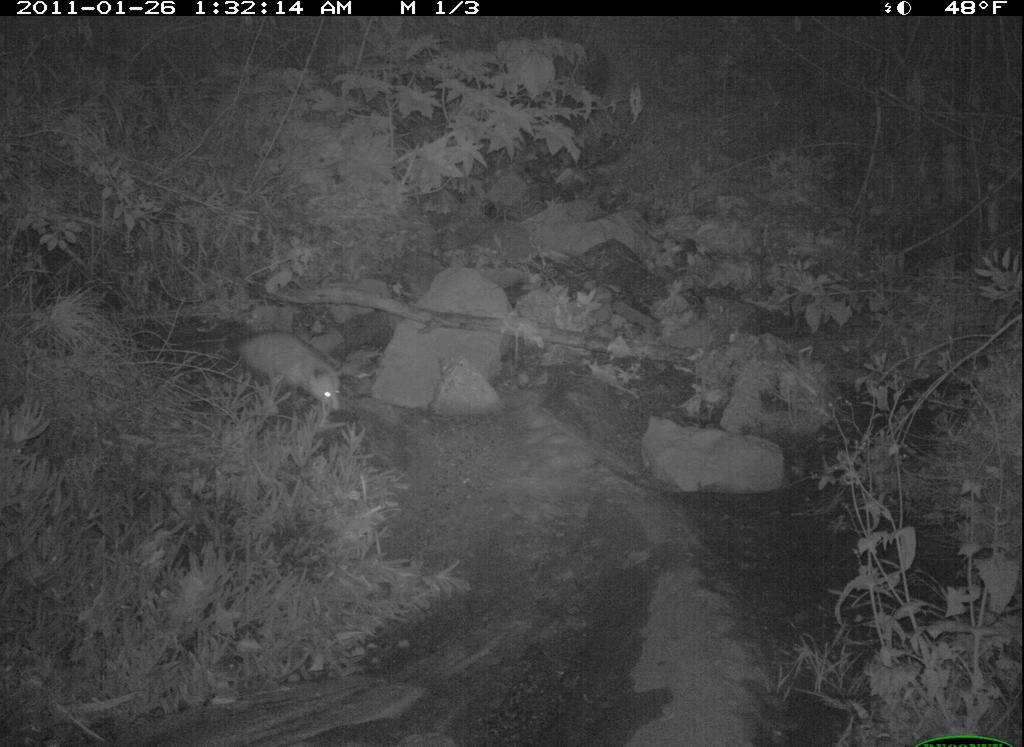opossum: (222, 318, 355, 422)
